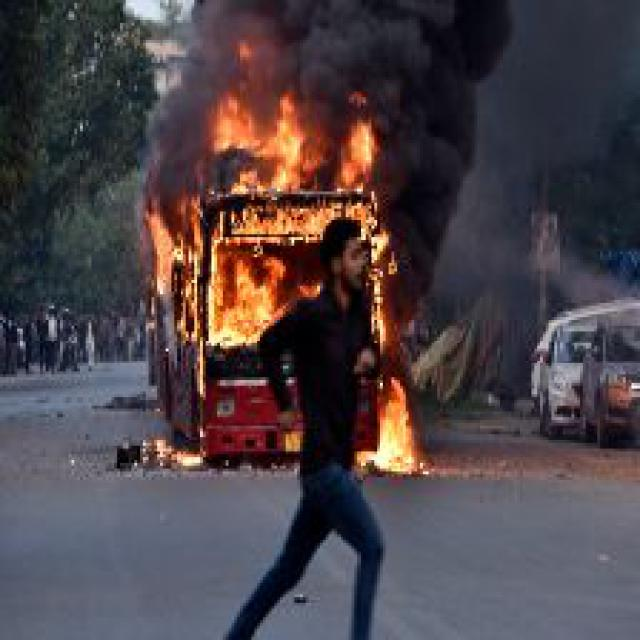fire: (146, 63, 426, 480)
